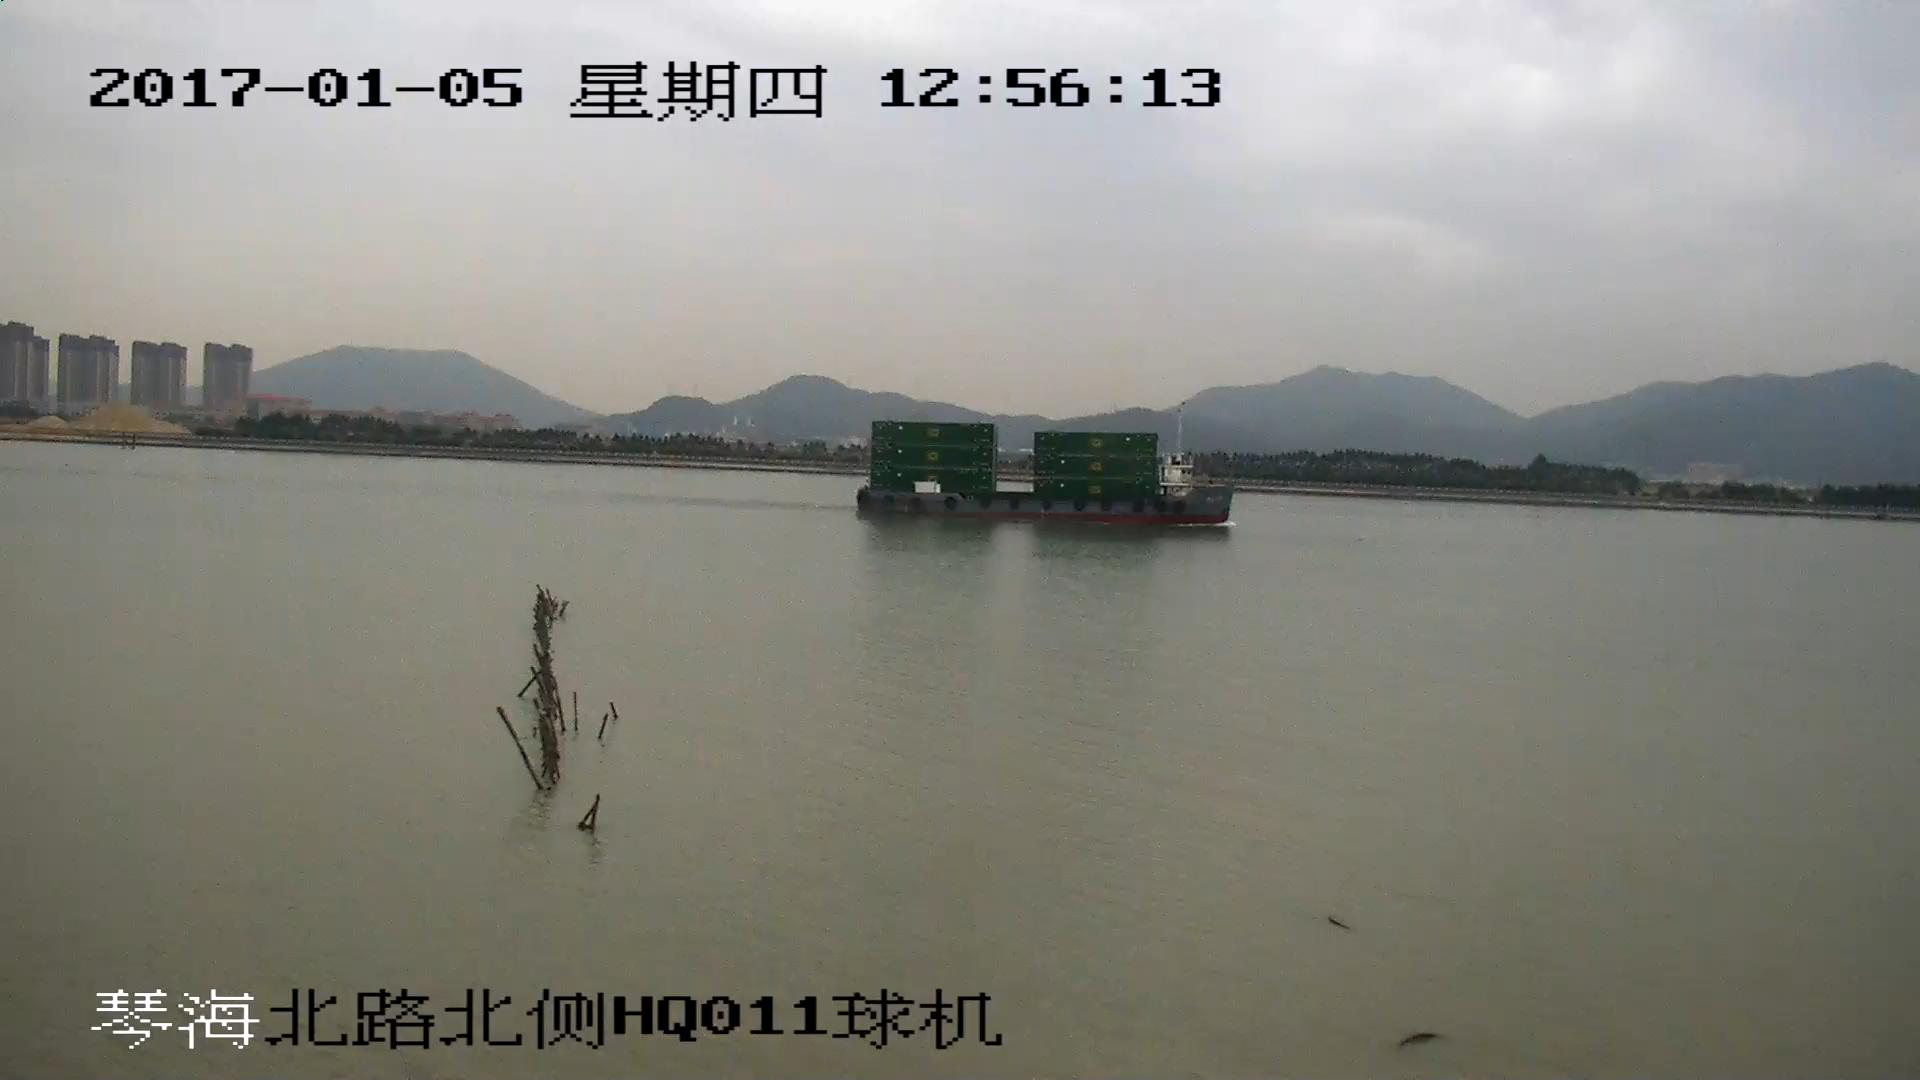container ship: (854, 418, 1232, 531)
